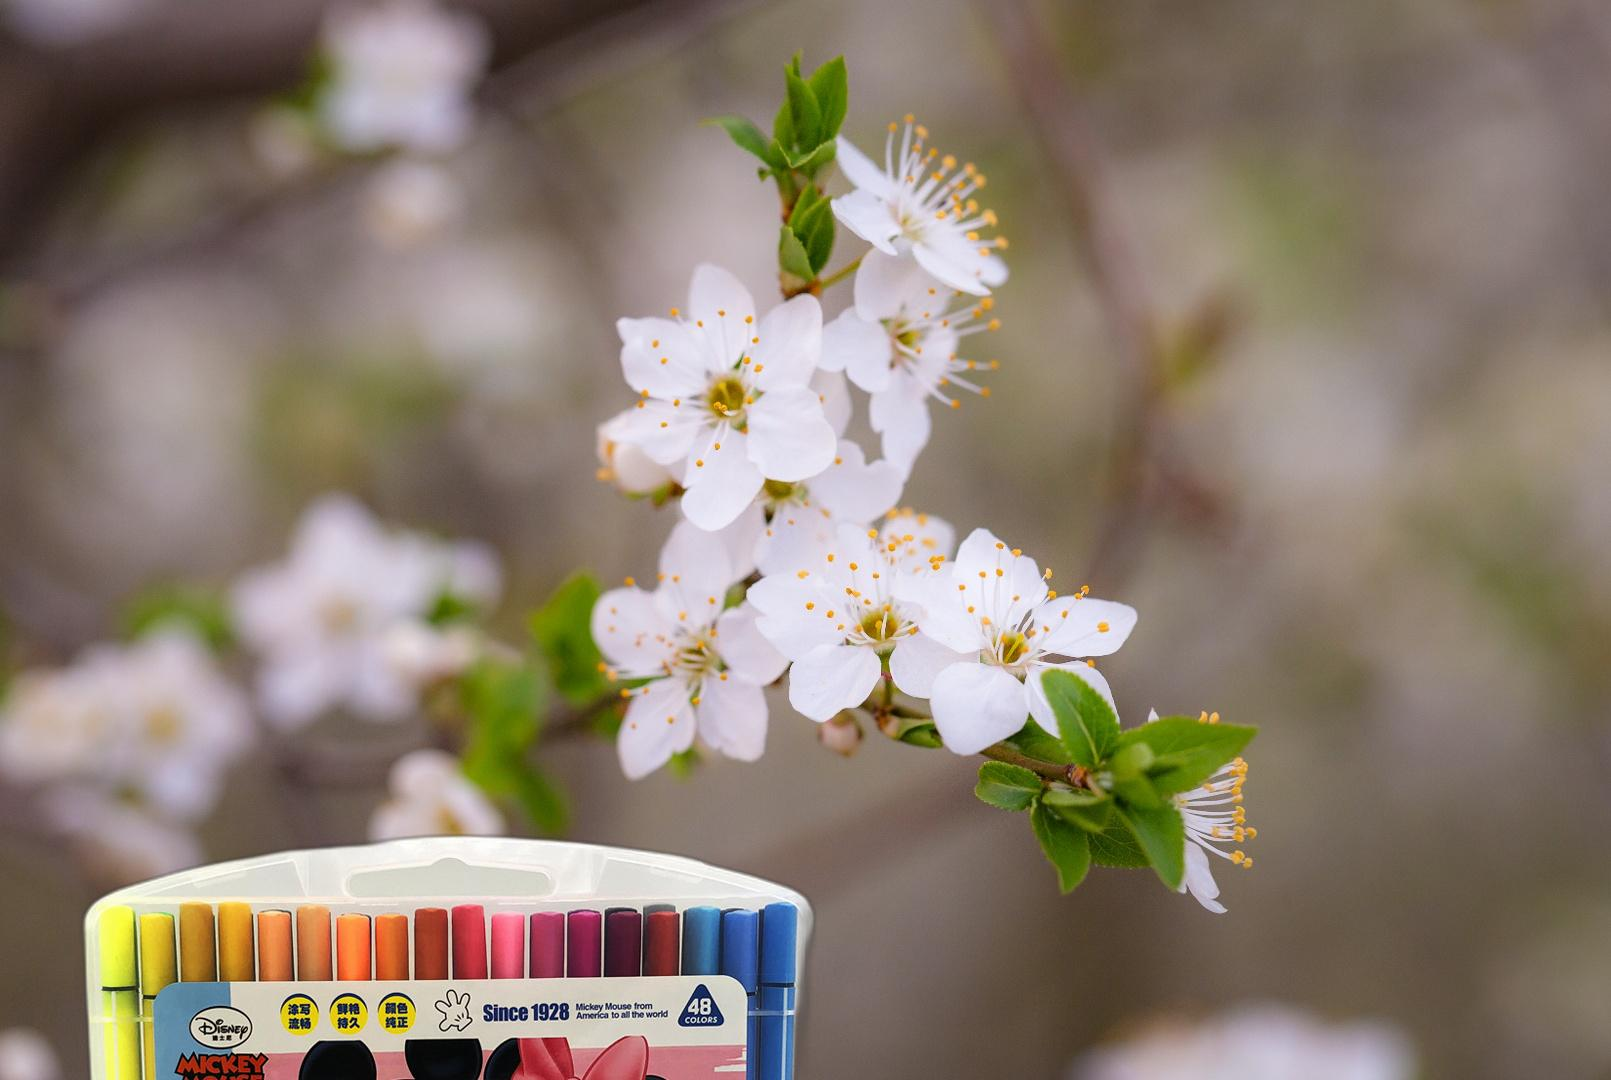penholder: (74, 829, 824, 1080)
